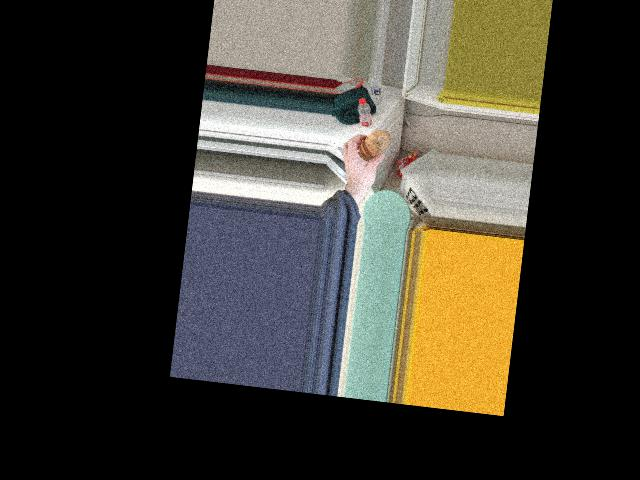sweet_potato: (357, 128, 389, 164)
